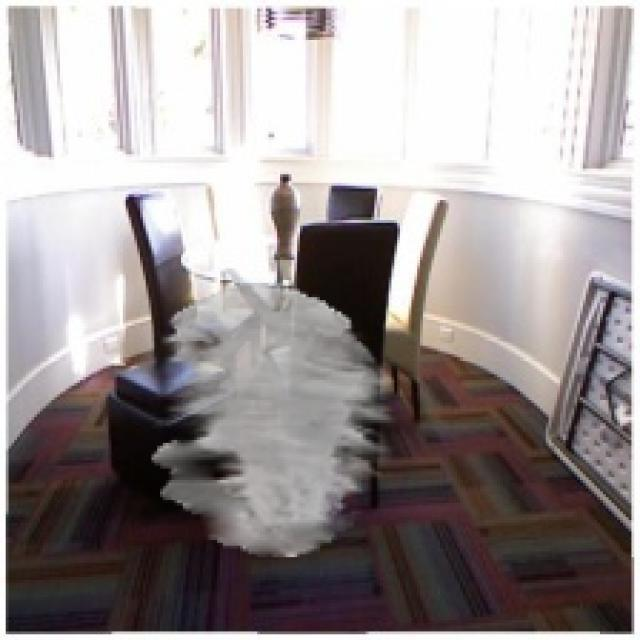Smoke: (152, 282, 398, 558)
